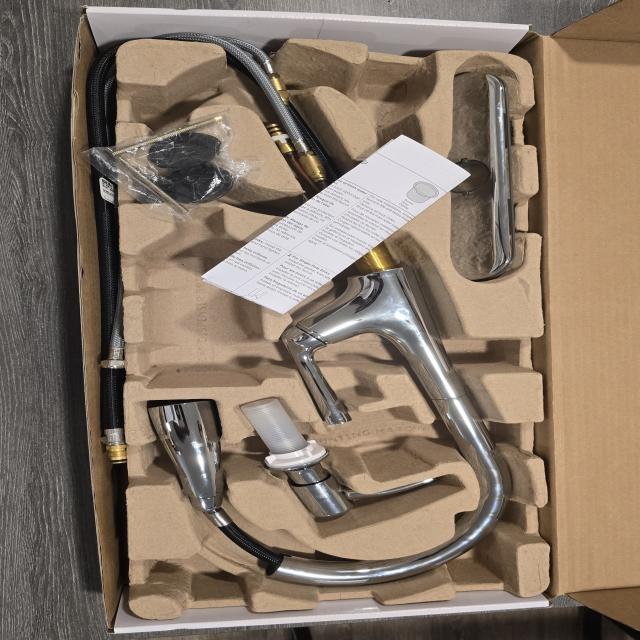1o: (149, 38, 513, 588)
2: (240, 399, 440, 523)
3m: (140, 204, 260, 387)
4o: (446, 71, 518, 281)
5m: (357, 72, 423, 120)
6m: (128, 71, 227, 131)
7: (84, 103, 263, 227)
8: (200, 132, 474, 314)
